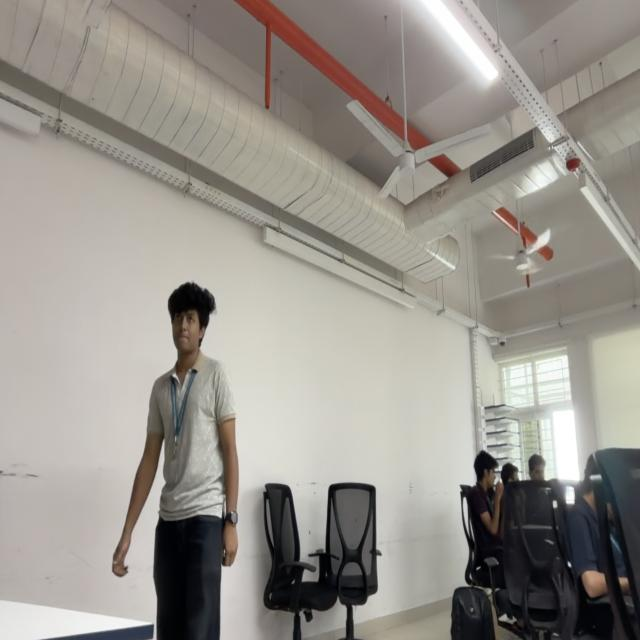kshitij: (167, 282, 217, 354)
